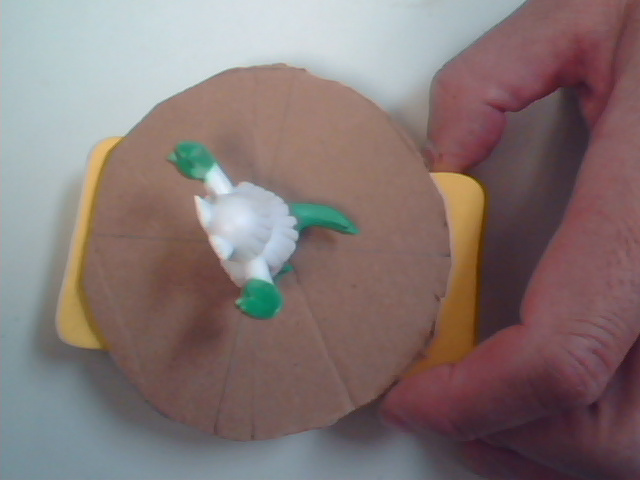abomasnow: (141, 125, 373, 351)
